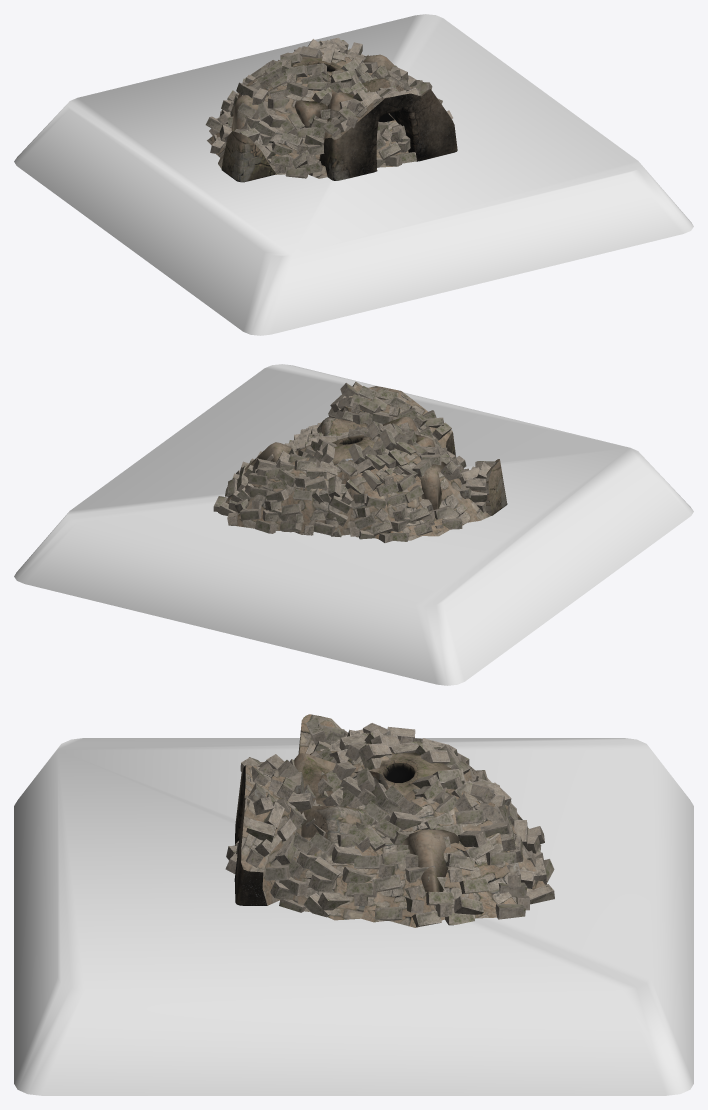
Rendered from Limestone Burner Destruction Stage 3.fbx.
The picture shows the model from 3 angles, top to bottom: view 1: azimuth 30°, elevation 25°; view 2: azimuth 150°, elevation 25°; view 3: azimuth 270°, elevation 25°; orthographic projection. The views are drawn at different scales.
Parts seen in each view (by area): view 1: Limestone_Burner_Base_Destruction_S3, Limestone_Burner_Destruction_S3; view 2: Limestone_Burner_Base_Destruction_S3, Limestone_Burner_Destruction_S3; view 3: Limestone_Burner_Base_Destruction_S3, Limestone_Burner_Destruction_S3.
Boxes of the visible parts, x1,y1,x2,y2 form: Limestone_Burner_Base_Destruction_S3: [14, 14, 693, 335]; Limestone_Burner_Destruction_S3: [205, 37, 457, 182]; Limestone_Burner_Base_Destruction_S3: [14, 364, 693, 685]; Limestone_Burner_Destruction_S3: [213, 381, 507, 542]; Limestone_Burner_Base_Destruction_S3: [14, 738, 693, 1095]; Limestone_Burner_Destruction_S3: [225, 714, 554, 927].
Bounding box in the file's own units: 796 × 226 × 758.
